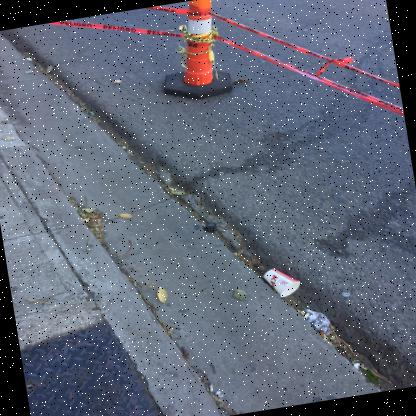Cigarette: (303, 312, 310, 319)
Metal bottle cap: (341, 292, 350, 296)
Normal paper: (304, 308, 332, 335)
Paper cup: (263, 268, 300, 297)
